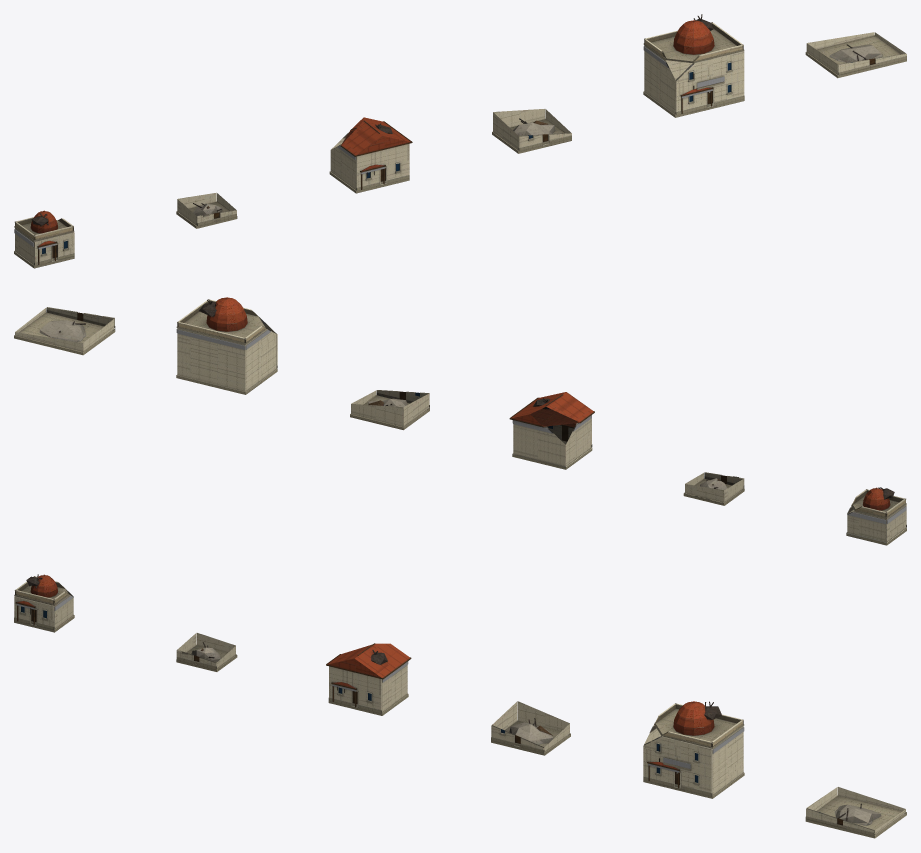
File: gunpowder-israelite-houses-damage.glb
3 renders of one model, top to bottom at view 1: azimuth 30°, elevation 25°; view 2: azimuth 150°, elevation 25°; view 3: azimuth 330°, elevation 25°, orthographic.
Visible parts, largest first — view 1: LOD0.004, LOD0.002, LOD0.005, LOD0, LOD0.003, LOD0.001; view 2: LOD0.004, LOD0.002, LOD0.005, LOD0, LOD0.003, LOD0.001; view 3: LOD0.004, LOD0.002, LOD0.005, LOD0.003, LOD0, LOD0.001.
Boxes of the visible parts, left/top/right/bottom form: LOD0.004: left=643, top=14, right=744, bottom=117; LOD0.002: left=329, top=117, right=412, bottom=193; LOD0.005: left=805, top=32, right=906, bottom=78; LOD0: left=14, top=210, right=74, bottom=268; LOD0.003: left=492, top=109, right=571, bottom=153; LOD0.001: left=176, top=192, right=237, bottom=228; LOD0.004: left=176, top=297, right=277, bottom=394; LOD0.002: left=509, top=392, right=594, bottom=469; LOD0.005: left=14, top=307, right=115, bottom=355; LOD0: left=846, top=487, right=906, bottom=545; LOD0.003: left=350, top=390, right=429, bottom=430; LOD0.001: left=683, top=472, right=744, bottom=505; LOD0.004: left=643, top=701, right=744, bottom=798; LOD0.002: left=326, top=643, right=411, bottom=715; LOD0.005: left=805, top=787, right=906, bottom=838; LOD0.003: left=491, top=701, right=570, bottom=755; LOD0: left=14, top=574, right=74, bottom=632; LOD0.001: left=176, top=633, right=237, bottom=671.
Size of what is drawn, in the model's own units: 16.02 by 1.37 by 1.06.
2 materials, 2 textured.
